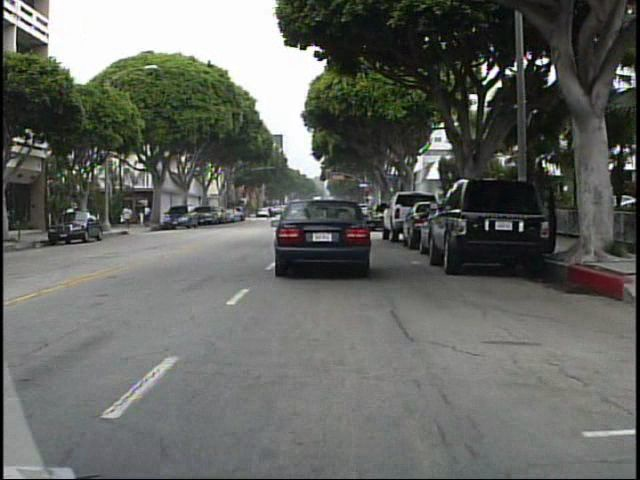person: (123, 201, 138, 233), (143, 201, 156, 230), (267, 202, 277, 222)
